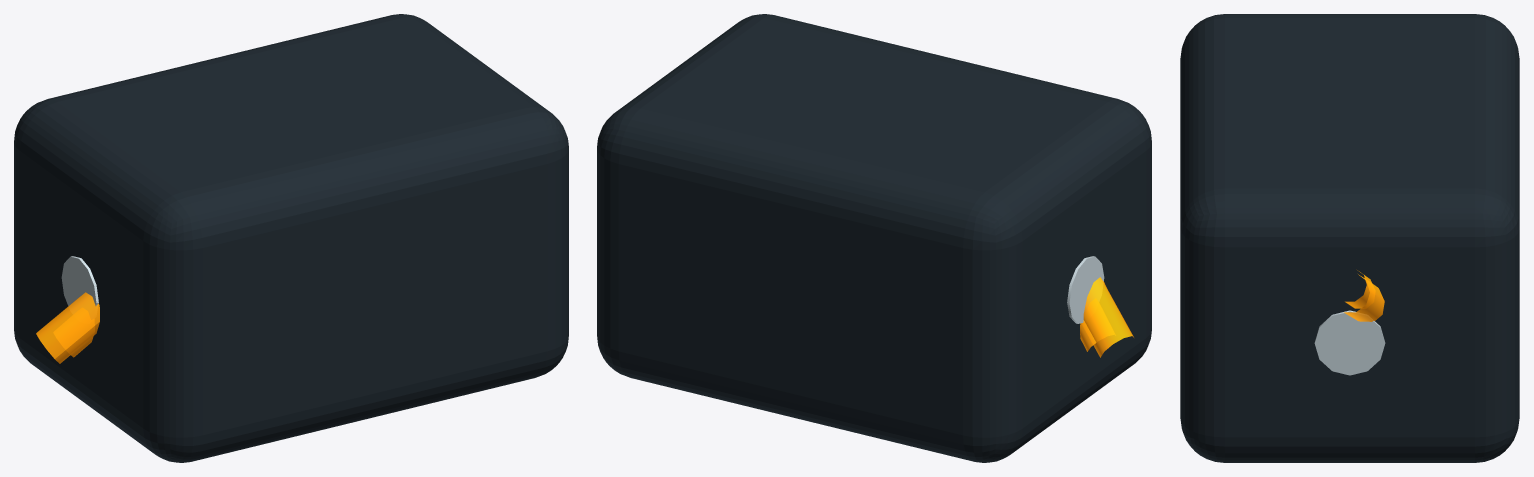
File: remaining_systems_14.glb
The picture shows the model from 3 angles, left to right: view 1: azimuth 30°, elevation 25°; view 2: azimuth 150°, elevation 25°; view 3: azimuth 270°, elevation 25°; orthographic projection.
Parts seen in each view (by area): view 1: asset_mesh__remaining_systems_1313__reference_body, asset_mesh__remaining_systems_1364__fluid_path, asset_mesh__remaining_systems_1348__assembly_axis; view 2: asset_mesh__remaining_systems_1313__reference_body, asset_mesh__remaining_systems_1364__fluid_path, asset_mesh__remaining_systems_1348__assembly_axis; view 3: asset_mesh__remaining_systems_1313__reference_body, asset_mesh__remaining_systems_1348__assembly_axis, asset_mesh__remaining_systems_1364__fluid_path.
Part boxes in pixels (x1,y1,x2,y2): asset_mesh__remaining_systems_1313__reference_body: [14, 14, 568, 462]; asset_mesh__remaining_systems_1364__fluid_path: [36, 292, 99, 363]; asset_mesh__remaining_systems_1348__assembly_axis: [61, 256, 98, 306]; asset_mesh__remaining_systems_1313__reference_body: [597, 14, 1151, 462]; asset_mesh__remaining_systems_1364__fluid_path: [1083, 277, 1133, 357]; asset_mesh__remaining_systems_1348__assembly_axis: [1067, 256, 1104, 323]; asset_mesh__remaining_systems_1313__reference_body: [1180, 14, 1519, 462]; asset_mesh__remaining_systems_1348__assembly_axis: [1314, 310, 1385, 375]; asset_mesh__remaining_systems_1364__fluid_path: [1344, 274, 1384, 321].
Size of the model in its own units: 1.47 by 0.7614 by 0.84.
